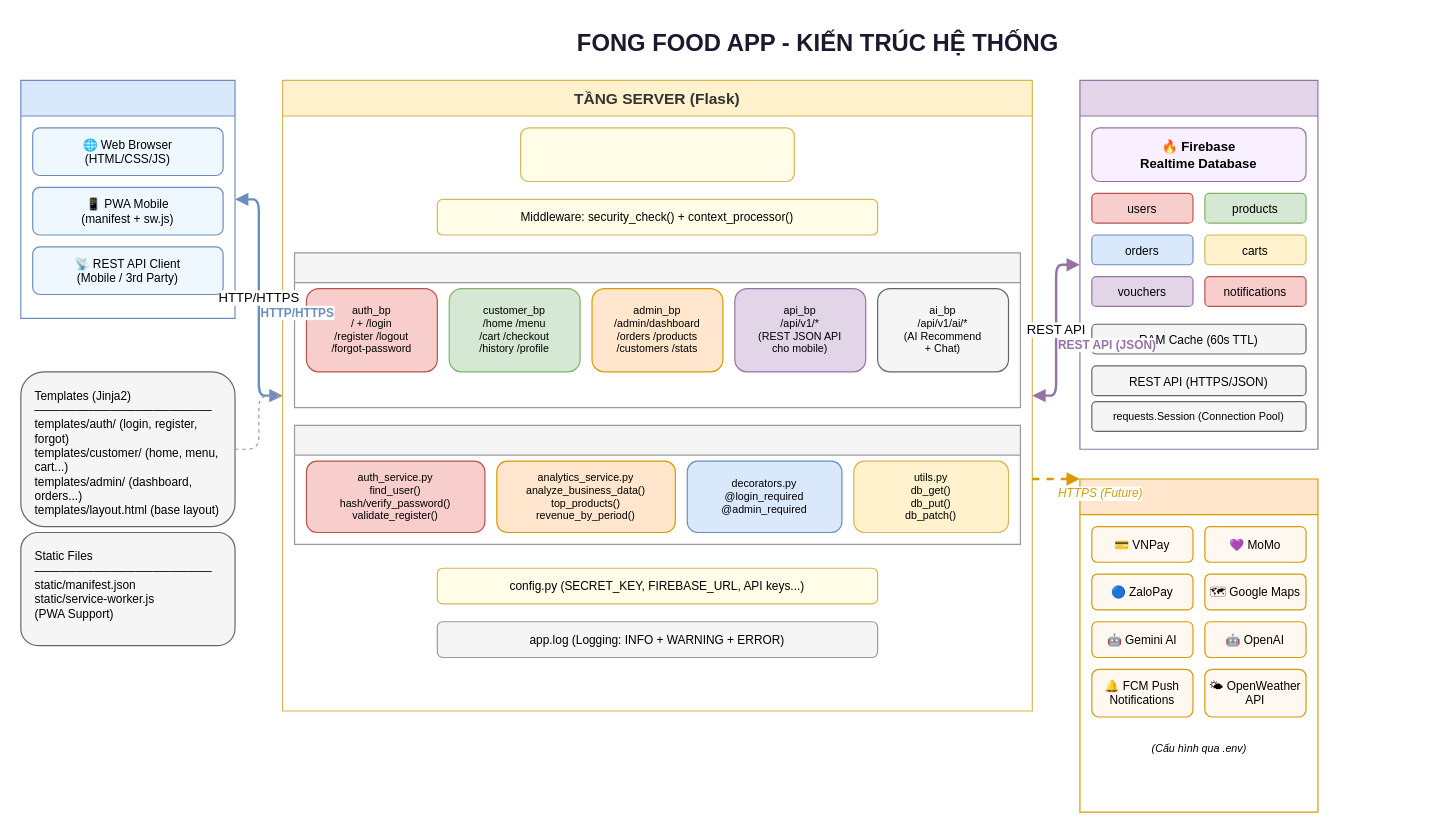
This 1434x833 diagram has some shape labels left out. Here are the shapes that lost their labels. From the top down, the box of each, then its label:
(519, 127, 794, 181): app.py - Main Entry Point (Flask + CORS + Blueprints)
(20, 79, 235, 318): TẦNG CLIENT
(1079, 79, 1318, 449): TẦNG DATABASE
(293, 252, 1020, 408): Blueprints (Routes)
(293, 424, 1020, 544): Services Layer
(1079, 478, 1318, 812): DỊCH VỤ NGOÀI
